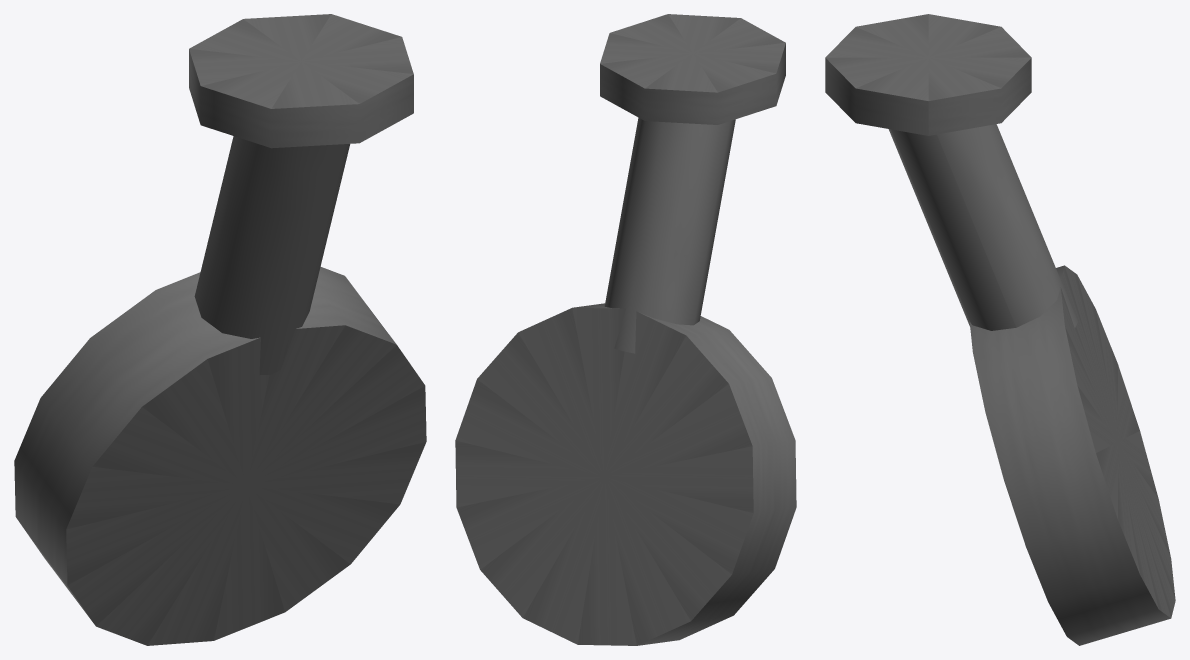
The model's file is mastarmcurve_10x2_c2_up.obj.
The picture shows the model from 3 angles, left to right: view 1: azimuth 30°, elevation 25°; view 2: azimuth 150°, elevation 25°; view 3: azimuth 270°, elevation 25°; orthographic projection. The views are drawn at different scales.
Parts seen in each view (by area): view 1: mastarm_10x2_c2_up; view 2: mastarm_10x2_c2_up; view 3: mastarm_10x2_c2_up.
Part boxes in pixels (bbox=[...]): mastarm_10x2_c2_up: bbox=[14, 14, 426, 645]; mastarm_10x2_c2_up: bbox=[455, 14, 796, 645]; mastarm_10x2_c2_up: bbox=[825, 14, 1175, 645].
Size of the model in its own units: 0.7153 by 1.22 by 0.679.
